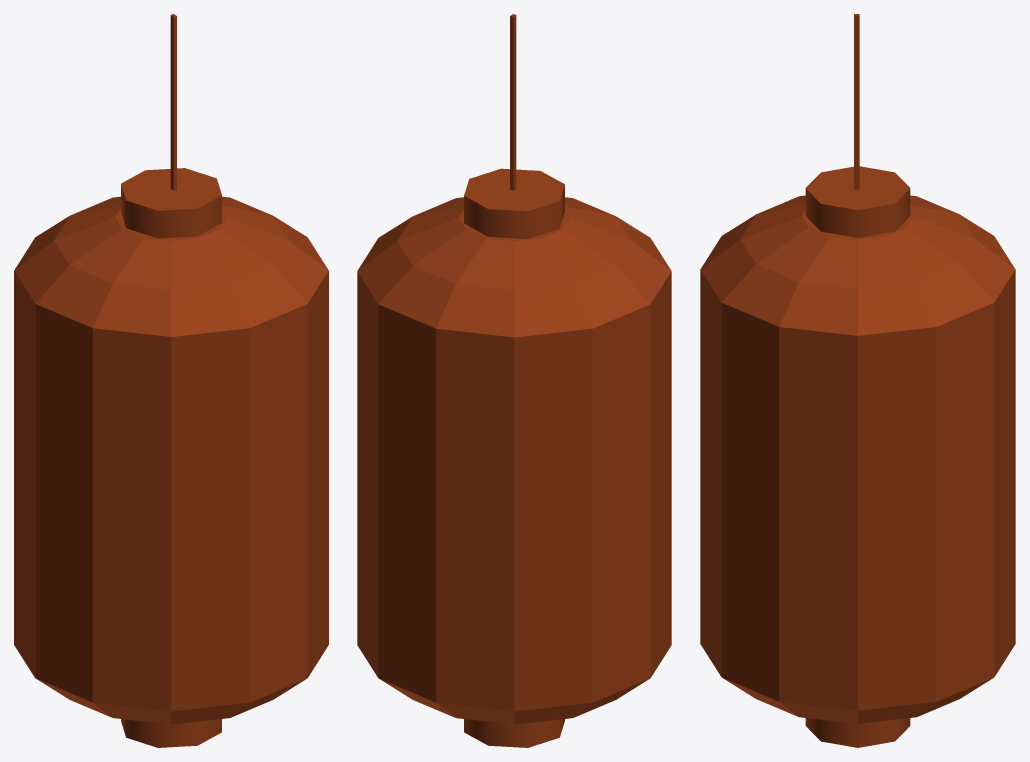
The model's file is SM_lantern_japanese_01.fbx.
3 renders of one model, left to right at view 1: azimuth 30°, elevation 25°; view 2: azimuth 150°, elevation 25°; view 3: azimuth 270°, elevation 25°, orthographic.
Parts seen in each view (by area): view 1: Cylinder027; view 2: Cylinder027; view 3: Cylinder027.
Boxes of the visible parts, x1=… form: Cylinder027: x1=14, y1=14, x2=328, y2=747; Cylinder027: x1=357, y1=14, x2=671, y2=747; Cylinder027: x1=700, y1=14, x2=1015, y2=747.
Size of the model in its own units: 16.8 by 16.8 by 41.9.
